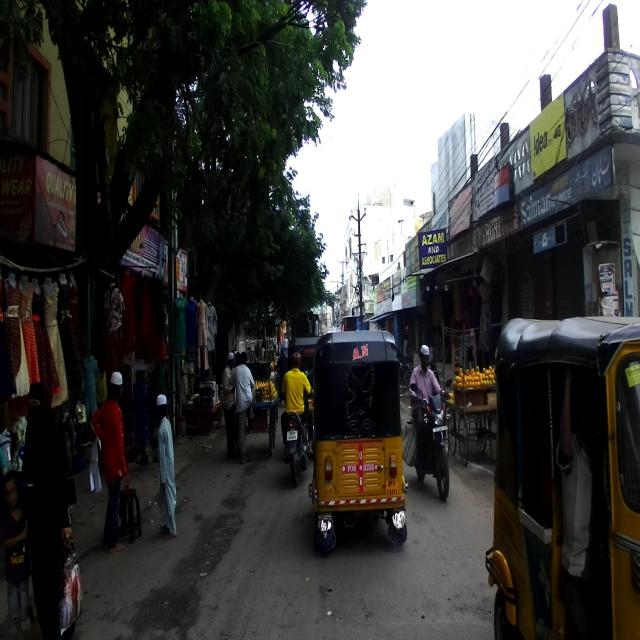autorickshaw: (480, 316, 640, 640), (307, 331, 409, 555)
motorcycle: (282, 394, 314, 487)
motorcycle_Honda: (401, 377, 452, 502)
